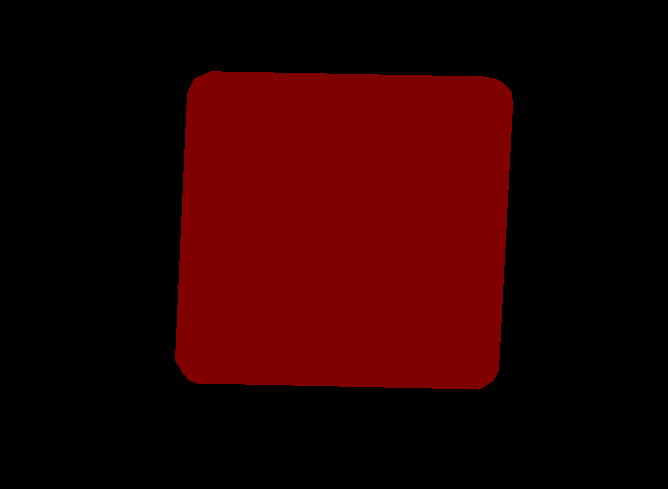sign: (175, 71, 512, 389)
